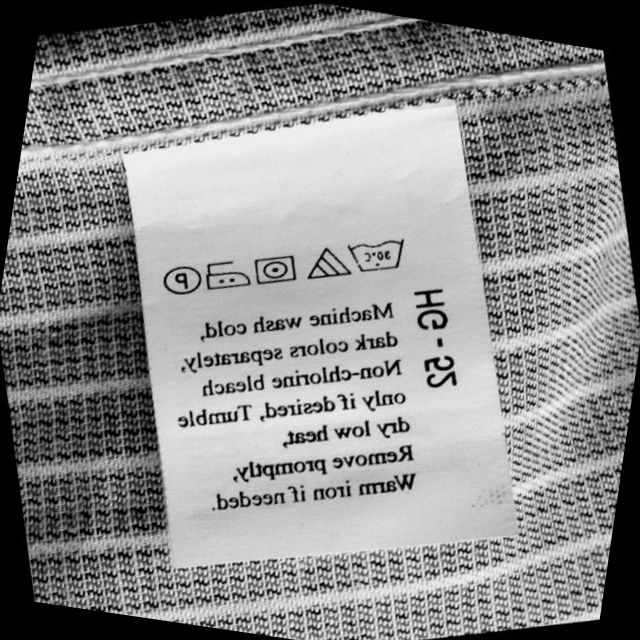30C: (344, 229, 412, 281)
dry_clean_any_solvent_except_trichloroethylene: (163, 260, 205, 299)
iron_medium: (201, 251, 255, 298)
non_chlorine_bleach: (307, 242, 356, 287)
tumble_dry_low: (251, 246, 304, 291)
